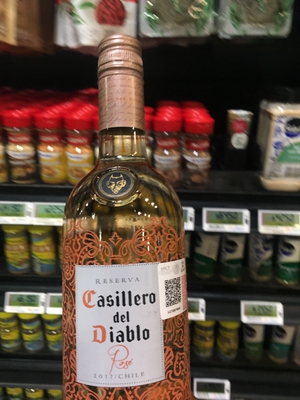casillero del diablo rose: (53, 31, 202, 398)
